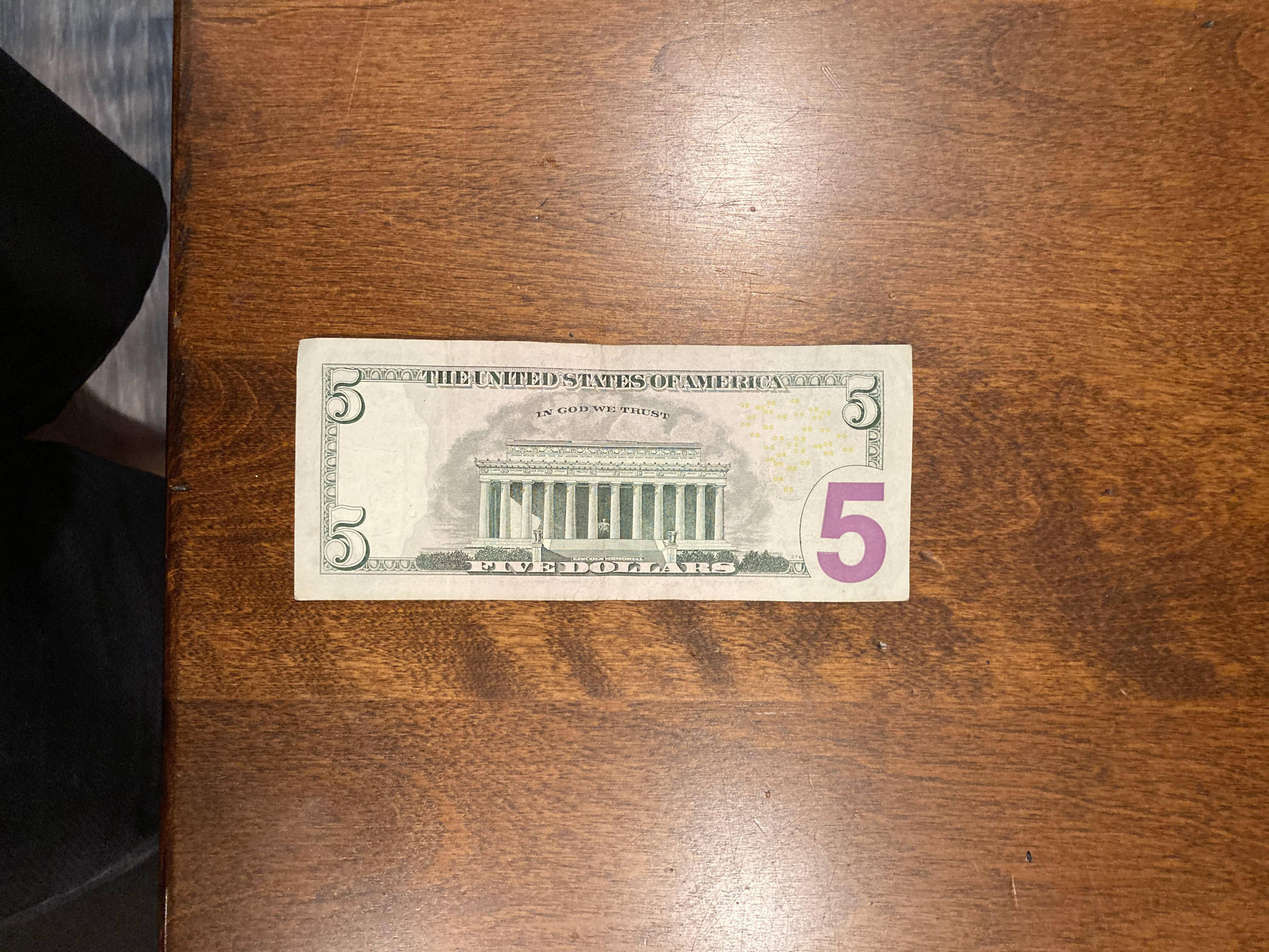five-back: (293, 336, 915, 601)
